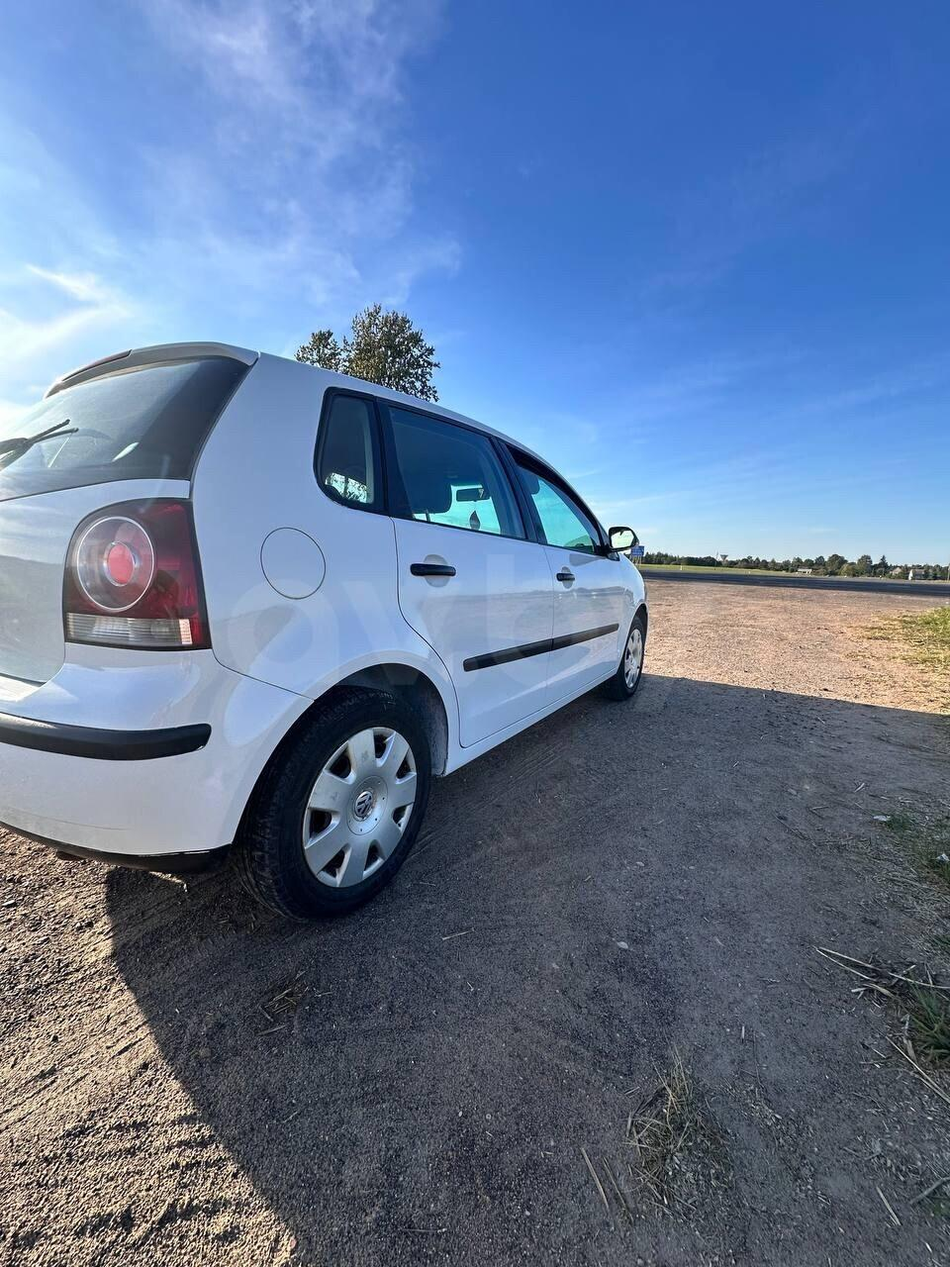Polo_2005-2009: (0, 320, 675, 948)
